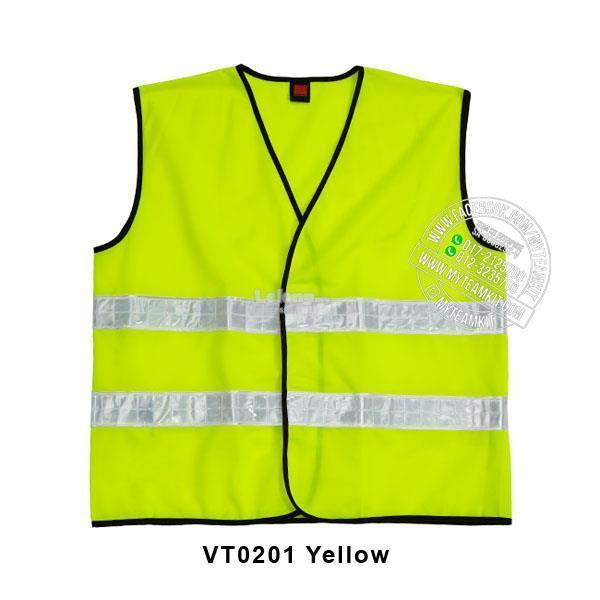vest: (86, 64, 510, 529)
